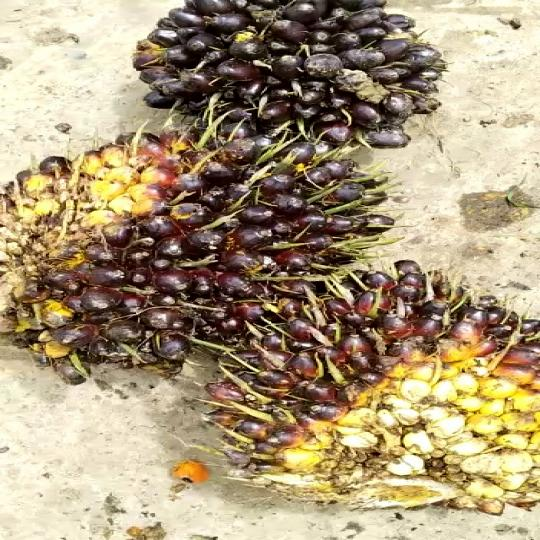mentah: (0, 115, 405, 373), (213, 254, 540, 523), (90, 0, 475, 157)
